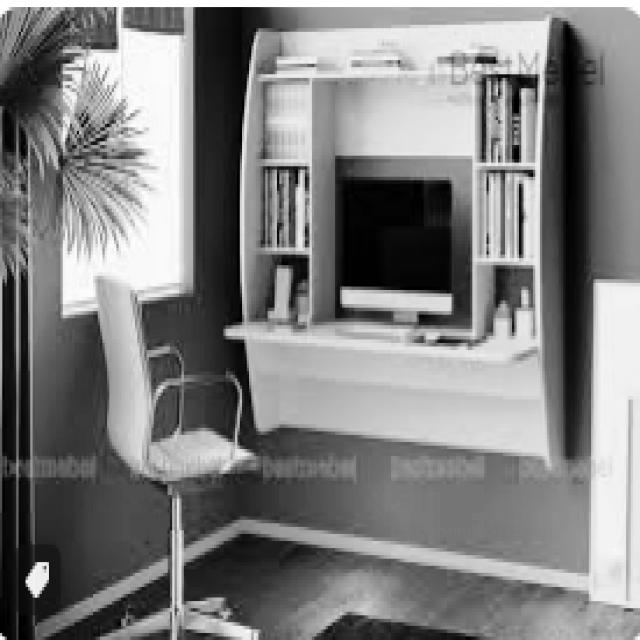book: (91, 269, 263, 636)
table: (233, 291, 571, 490)
